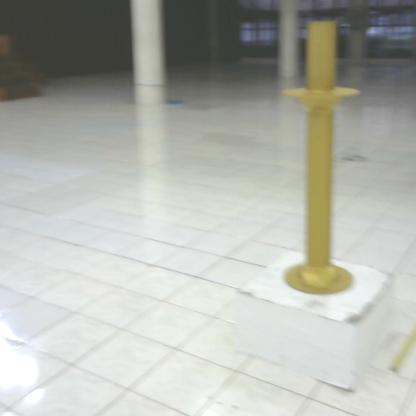pole: (277, 16, 369, 306)
